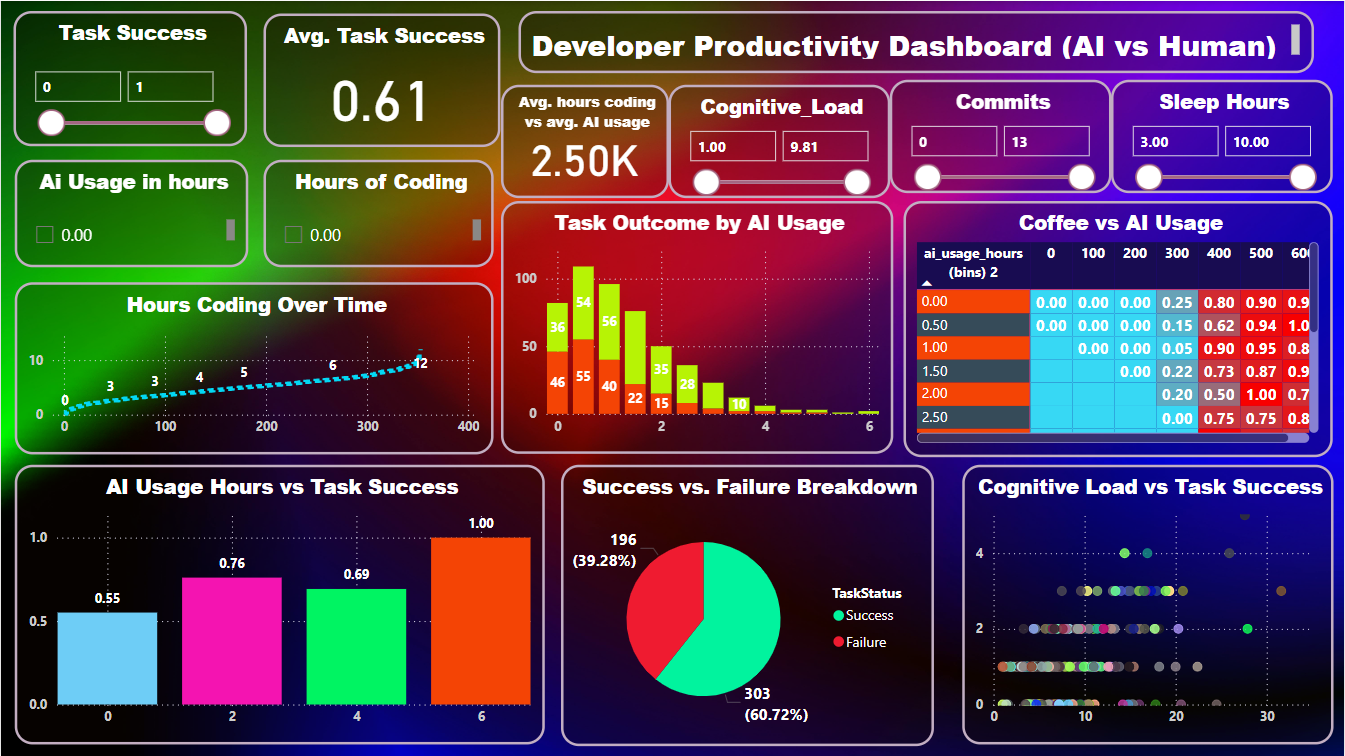

What the dashboard file says about the page in this screenshot:
{"tool":"powerbi","page":{"name":"Page 1","canvas":[1280,720],"ordinal":0},"visuals":[{"type":"slicer","title":"Task Success","fields":{"Values":["ai_dev_productivity.task_success"]},"box":[12.3,9.6,222.3,129],"z":0},{"type":"slicer","title":"Hours of Coding","fields":{"Values":["ai_dev_productivity.hours_coding (bins)"]},"box":[249.4,151.1,219.5,102.6],"z":1000},{"type":"slicer","title":"Ai Usage in hours","fields":{"Values":["ai_dev_productivity.ai_usage_hours"]},"box":[12.8,151.1,222.4,102.6],"z":2000},{"type":"textbox","box":[492.6,9.6,757.5,59],"z":3000},{"type":"card","title":"Avg. Task Success","fields":{"Values":["Avg(ai_dev_productivity.task_success)"]},"box":[249.4,11.4,225.2,126.9],"z":4000},{"type":"pieChart","title":"Success vs. Failure Breakdown","fields":{"Category":["ai_dev_productivity.TaskStatus"],"Y":["CountNonNull(ai_dev_productivity.task_success)"]},"box":[533.1,441.9,354.9,268],"z":5000},{"type":"clusteredColumnChart","title":"AI Usage Hours vs Task Success","fields":{"Y":["Avg(ai_dev_productivity.task_success)"],"Category":["ai_dev_productivity.ai_usage_hours (bins)"]},"box":[12.8,441.9,504.6,266.5],"z":6000},{"type":"lineChart","title":"Hours Coding Over Time","fields":{"Category":["ai_dev_productivity.DayIndex"],"Y":["Avg(ai_dev_productivity.hours_coding)"]},"box":[13.1,267.9,456,164.3],"z":7000},{"type":"scatterChart","title":"Cognitive Load vs Task Success","fields":{"X":["Sum(ai_dev_productivity.cognitive_load)"],"Y":["Sum(ai_dev_productivity.task_success)"],"Series":["ai_dev_productivity.ai_usage_hours"]},"box":[915.1,441.9,353.5,266.5],"z":8000},{"type":"pivotTable","title":"Coffee vs AI Usage ","fields":{"Values":["Avg(ai_dev_productivity.task_success)"],"Rows":["ai_dev_productivity.ai_usage_hours (bins) 2"],"Columns":["ai_dev_productivity.coffee_intake_mg (bins)"]},"box":[859.5,191,409.1,243.7],"z":9000},{"type":"slicer","title":"Cognitive_Load","fields":{"Values":["ai_dev_productivity.cognitive_load"]},"box":[635.7,79.8,211,108.3],"z":9001},{"type":"slicer","title":"Sleep Hours","fields":{"Values":["ai_dev_productivity.sleep_hours"]},"box":[1057.6,75.5,211,108.3],"z":9002},{"type":"slicer","title":"Commits","fields":{"Values":["ai_dev_productivity.commits"]},"box":[846.7,75.5,211,108.3],"z":9003},{"type":"kpi","title":"Avg. hours coding vs avg. AI usage","fields":{"Indicator":["Sum(ai_dev_productivity.Avg_Hours_Coding)"],"TrendLine":["ai_dev_productivity.Avg_AI_Usage"]},"box":[476.1,79.8,159.6,108.3],"z":9004},{"type":"columnChart","title":"Task Outcome by AI Usage","fields":{"Category":["ai_dev_productivity.ai_usage_hours (bins) 3"],"Series":["ai_dev_productivity.task_success"],"Y":["CountNonNull(ai_dev_productivity.task_success)"]},"box":[476.1,191,373.5,240.9],"z":9005}]}

Visuals, with their boxes in screenshot pixels (x1, y1, x2, y2), scaled from the page's 1280x720 canvas onto the 1345x756 screenshot:
"Task Success" slicer: box(13, 10, 247, 146)
"Hours of Coding" slicer: box(262, 159, 493, 266)
"Ai Usage in hours" slicer: box(13, 159, 247, 266)
textbox: box(518, 10, 1314, 72)
"Avg. Task Success" card: box(262, 12, 499, 145)
"Success vs. Failure Breakdown" pieChart: box(560, 464, 933, 745)
"AI Usage Hours vs Task Success" clusteredColumnChart: box(13, 464, 544, 744)
"Hours Coding Over Time" lineChart: box(14, 281, 493, 454)
"Cognitive Load vs Task Success" scatterChart: box(962, 464, 1333, 744)
"Coffee vs AI Usage " pivotTable: box(903, 201, 1333, 456)
"Cognitive_Load" slicer: box(668, 84, 890, 198)
"Sleep Hours" slicer: box(1111, 79, 1333, 193)
"Commits" slicer: box(890, 79, 1111, 193)
"Avg. hours coding vs avg. AI usage" kpi: box(500, 84, 668, 198)
"Task Outcome by AI Usage" columnChart: box(500, 201, 893, 453)
